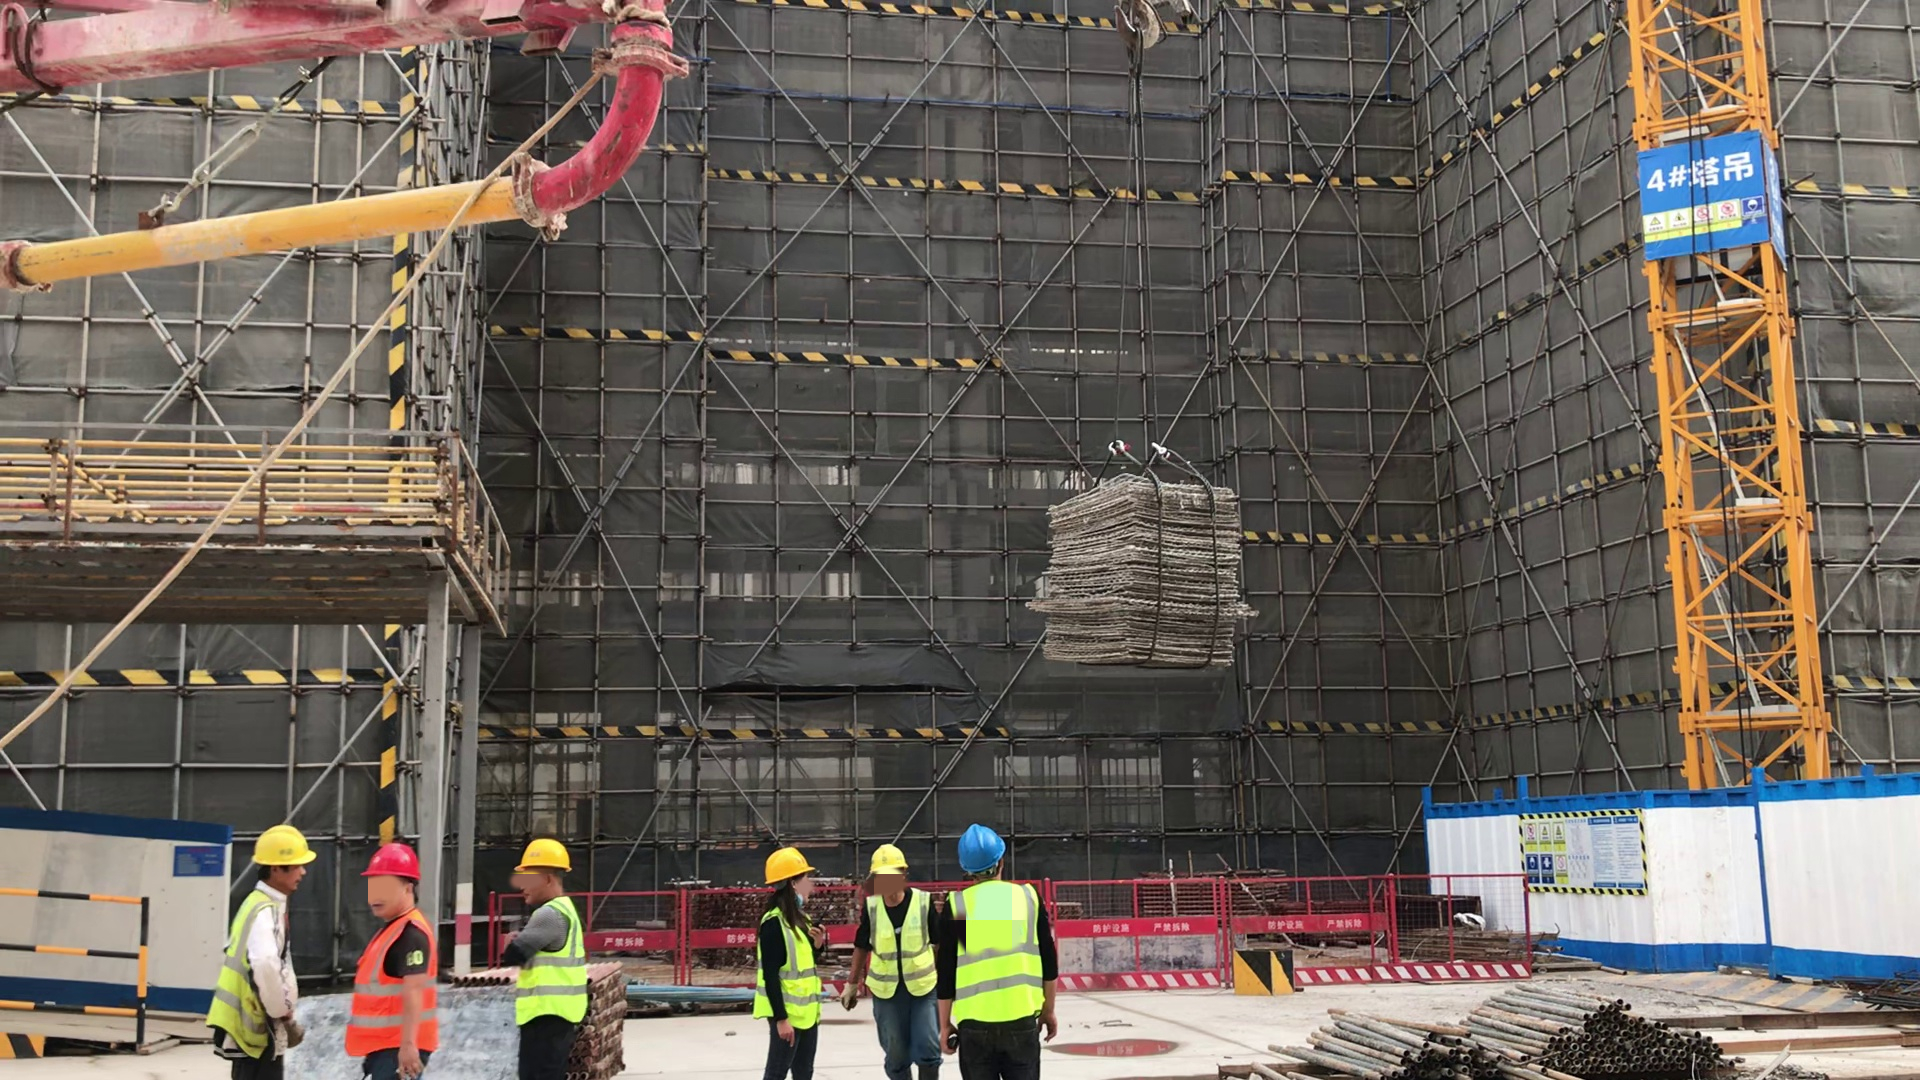helmet: (247, 824, 316, 868), (956, 825, 1007, 879), (358, 845, 422, 883), (514, 840, 574, 879), (763, 847, 817, 885), (865, 843, 908, 877)
person: (937, 824, 1059, 1080), (208, 823, 314, 1079), (343, 842, 446, 1080), (497, 837, 596, 1080), (848, 838, 934, 1080), (749, 845, 823, 1080)
vest: (942, 883, 1047, 1027), (347, 909, 440, 1058), (208, 889, 292, 1050), (749, 906, 833, 1033), (510, 896, 592, 1025), (863, 886, 938, 1000)
